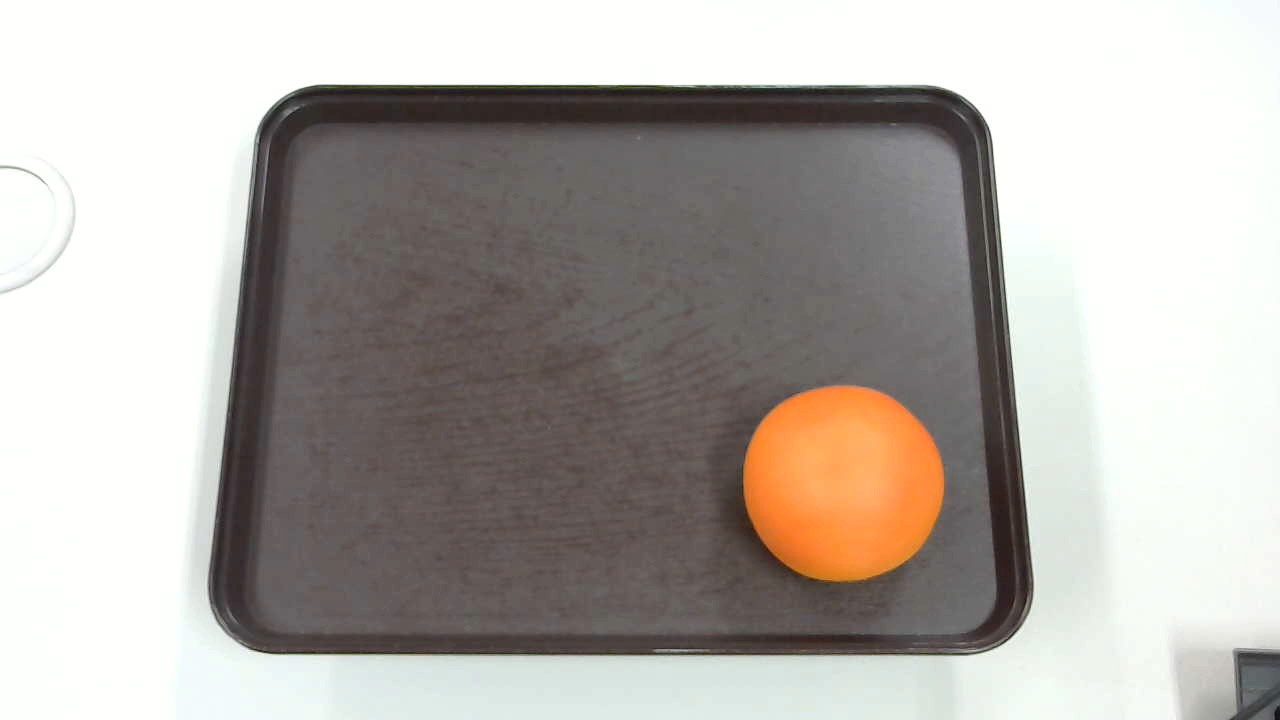bun: (743, 386, 944, 580)
